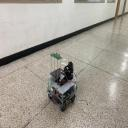cart: (46, 74, 77, 112)
